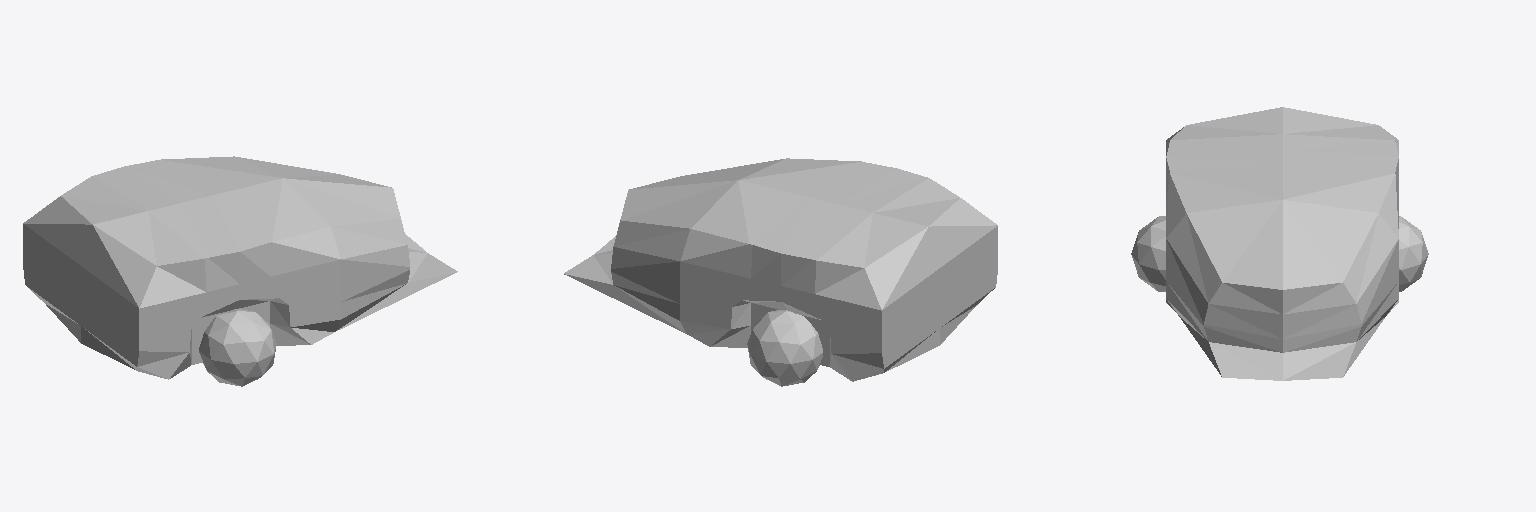
File: walker_no_legs.obj
The picture shows the model from 3 angles: view 1: azimuth 30°, elevation 25°; view 2: azimuth 150°, elevation 25°; view 3: azimuth 270°, elevation 25°; orthographic projection.
Parts seen in each view (by area): view 1: Cube_Cube.001; view 2: Cube_Cube.001; view 3: Cube_Cube.001.
Part boxes in pixels (left/top/right/bottom): Cube_Cube.001: left=23, top=156, right=457, bottom=386; Cube_Cube.001: left=564, top=158, right=997, bottom=386; Cube_Cube.001: left=1131, top=107, right=1428, bottom=380.
Bounding box in the file's own units: 6.88 × 2.65 × 5.11.